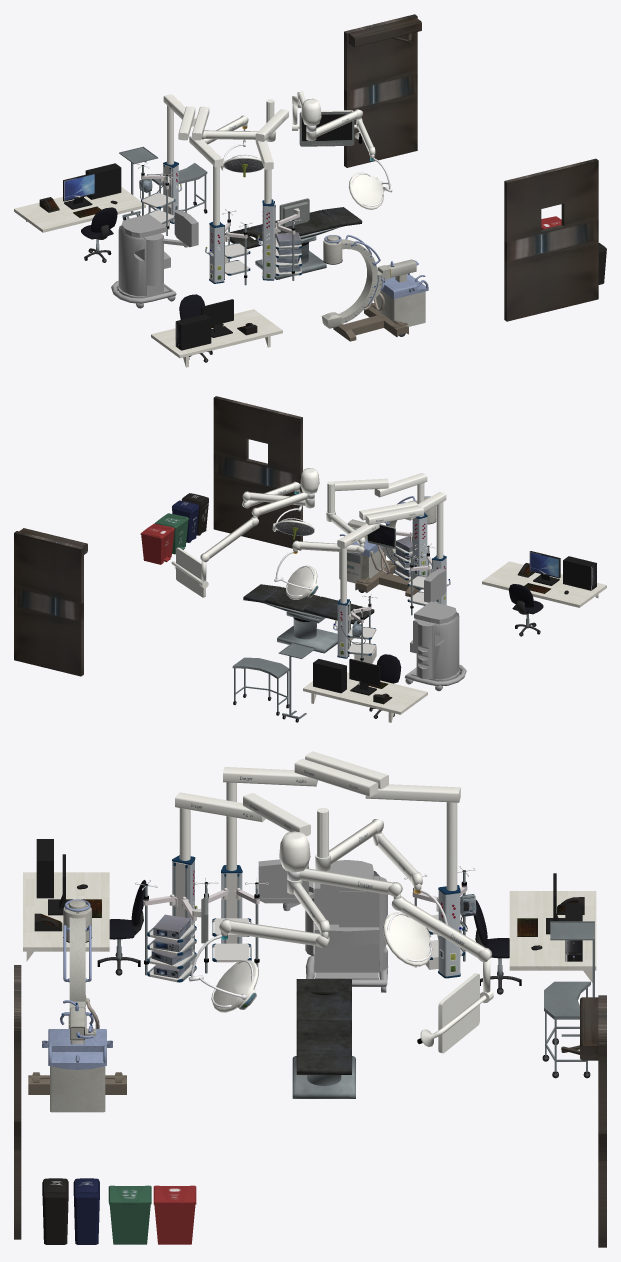
The model's file is Equipos_Quirofano.fbx.
The picture shows the model from 3 angles, top to bottom: view 1: azimuth 30°, elevation 25°; view 2: azimuth 150°, elevation 25°; view 3: azimuth 270°, elevation 25°; orthographic projection. The views are drawn at different scales.
Parts seen in each view (by area): view 1: PuertaPrincipal, Puerta2, Lamparas1, Pc, PCEscritorio, Camilla, Brazo_escaner, Escaner, soporte, Soporte1, polySurface8, Soporte (+8 smaller); view 2: Lamparas1, PuertaPrincipal, Puerta2, PCEscritorio, Pc, Camilla, Papeleras, Mesas1, Soporte, polySurface8, soporte, Escaner (+8 smaller); view 3: Lamparas1, Papeleras, PCEscritorio, Pc, Camilla, Escaner, pCube131, Puerta2, Mesas1, soporte, Soporte1, Brazo_escaner (+6 smaller).
Part boxes in pixels (x1,y1,x2,y2): PuertaPrincipal: (504, 158, 598, 321); Puerta2: (344, 14, 421, 167); Lamparas1: (163, 91, 392, 225); Pc: (14, 163, 145, 262); PCEscritorio: (151, 294, 282, 367); Camilla: (225, 207, 362, 279); Brazo_escaner: (321, 235, 418, 328); Escaner: (376, 259, 428, 326); soporte: (257, 199, 301, 280); Soporte1: (205, 209, 252, 285); polySurface8: (118, 225, 146, 296); Soporte: (136, 161, 182, 235); Lamparas1: (171, 468, 446, 603); PuertaPrincipal: (213, 396, 302, 550); Puerta2: (14, 528, 87, 676); PCEscritorio: (482, 551, 606, 636); Pc: (303, 654, 427, 722); Camilla: (243, 584, 374, 653); Papeleras: (140, 493, 208, 564); Mesas1: (232, 642, 315, 722); Soporte: (333, 594, 377, 663); polySurface8: (433, 612, 459, 679); soporte: (394, 512, 429, 589); Escaner: (339, 519, 385, 583); Lamparas1: (175, 751, 493, 1053); Papeleras: (42, 1178, 196, 1244); PCEscritorio: (23, 839, 146, 975); Pc: (473, 873, 596, 994); Camilla: (292, 979, 355, 1098); Escaner: (42, 1008, 112, 1112); pCube131: (314, 876, 379, 972); Puerta2: (561, 995, 606, 1247); Mesas1: (542, 921, 594, 1078); soporte: (135, 855, 201, 982); Soporte1: (195, 865, 268, 973); Brazo_escaner: (60, 899, 93, 1038).
Size of the model in its own units: 47.74 by 18.63 by 37.75.
